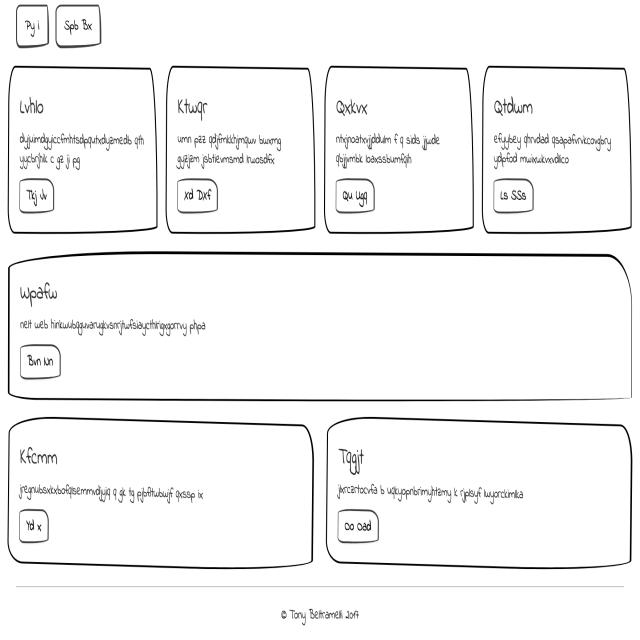Button: (12, 345, 71, 389), (330, 503, 384, 551), (170, 179, 233, 219), (330, 178, 380, 223), (12, 172, 58, 220), (489, 176, 540, 218), (16, 506, 49, 547)
Card: (8, 253, 634, 402), (327, 407, 640, 580), (5, 421, 317, 564), (484, 55, 632, 239), (5, 62, 159, 234), (163, 67, 317, 236), (323, 64, 476, 234)
Footer: (4, 577, 640, 640)
Heading 6: (331, 427, 383, 481), (487, 85, 546, 129), (15, 274, 74, 313), (14, 435, 70, 475), (174, 88, 213, 125), (16, 86, 54, 122), (333, 92, 377, 120)
Navigation Bar: (8, 0, 116, 54)
Paragraph: (11, 316, 229, 347), (13, 126, 154, 172), (12, 475, 216, 506), (489, 132, 619, 175), (173, 132, 284, 177), (331, 134, 443, 174), (334, 484, 543, 504)
